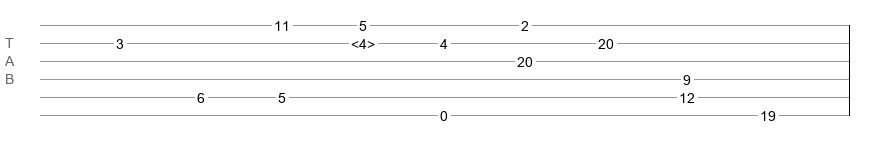0: (440, 108, 448, 118)
11: (274, 18, 290, 28)
12: (679, 90, 695, 100)
19: (760, 108, 776, 118)
2: (521, 18, 529, 28)
20: (517, 54, 533, 64), (598, 36, 614, 46)
3: (116, 36, 124, 46)
4: (440, 36, 448, 46)
5: (278, 90, 286, 100), (359, 18, 367, 28)
6: (197, 90, 205, 100)
9: (683, 72, 691, 82)
harmonic: (351, 36, 375, 46)
